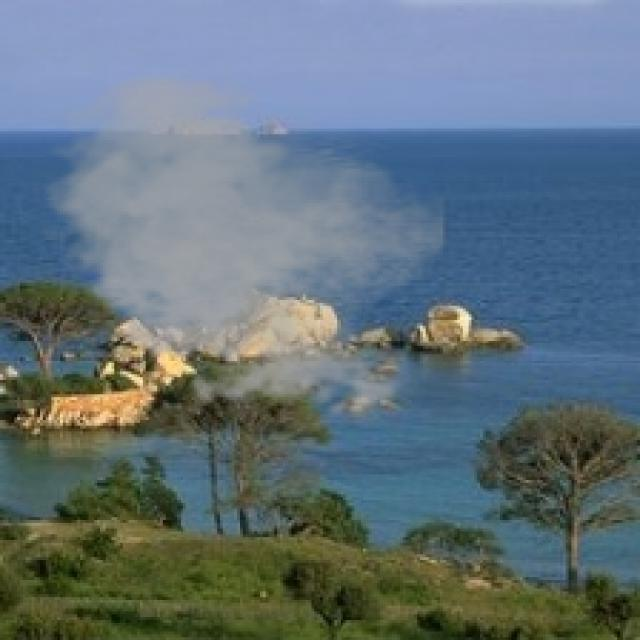Smoke: (31, 66, 448, 428)
